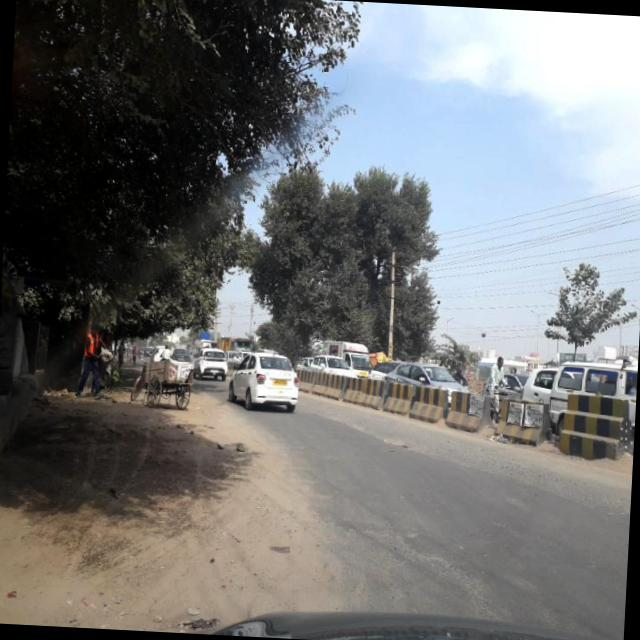pothole: (378, 522, 479, 598), (410, 450, 542, 491), (314, 407, 412, 450)
